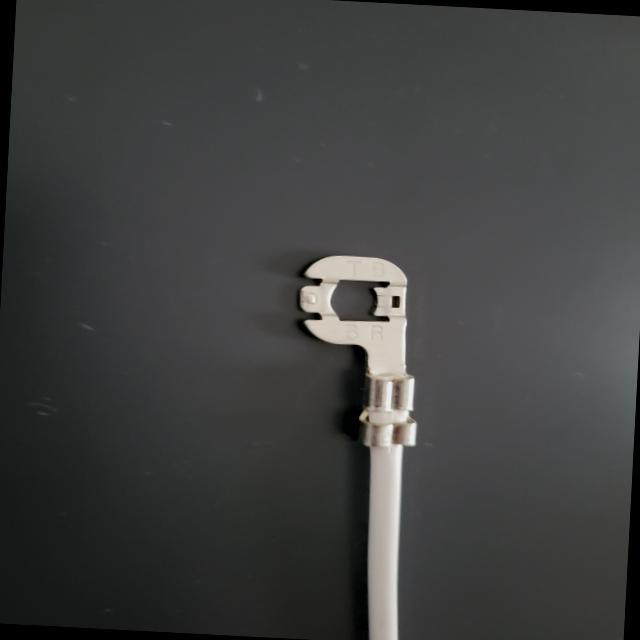defect: (329, 367, 496, 470)
